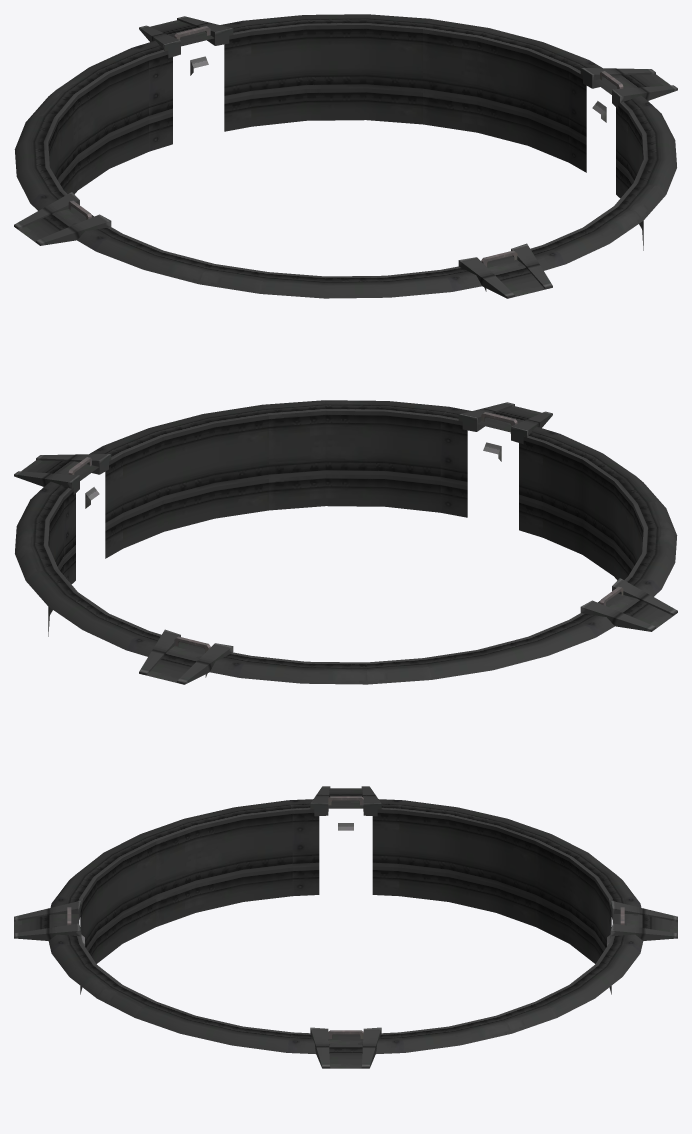
The picture shows the model from 3 angles, top to bottom: view 1: azimuth 30°, elevation 25°; view 2: azimuth 150°, elevation 25°; view 3: azimuth 270°, elevation 25°; orthographic projection. The views are drawn at different scales.
Visible parts, largest first — view 1: body0_model0_lod0_mesh0, body0_model0_lod0_mesh1, body0_model0_lod0_mesh3; view 2: body0_model0_lod0_mesh0, body0_model0_lod0_mesh1, body0_model0_lod0_mesh3; view 3: body0_model0_lod0_mesh0, body0_model0_lod0_mesh1, body0_model0_lod0_mesh3.
Part boxes in pixels (x1,y1,x2,y2): body0_model0_lod0_mesh0: (14, 14, 676, 298); body0_model0_lod0_mesh1: (14, 16, 677, 298); body0_model0_lod0_mesh3: (68, 26, 623, 266); body0_model0_lod0_mesh0: (15, 400, 677, 684); body0_model0_lod0_mesh1: (14, 402, 677, 684); body0_model0_lod0_mesh3: (68, 412, 623, 652); body0_model0_lod0_mesh0: (14, 788, 677, 1068); body0_model0_lod0_mesh1: (14, 786, 677, 1068); body0_model0_lod0_mesh3: (67, 796, 624, 1038).
Size of the model in its own units: 336 by 51.99 by 336.
4 materials, 4 textured.
